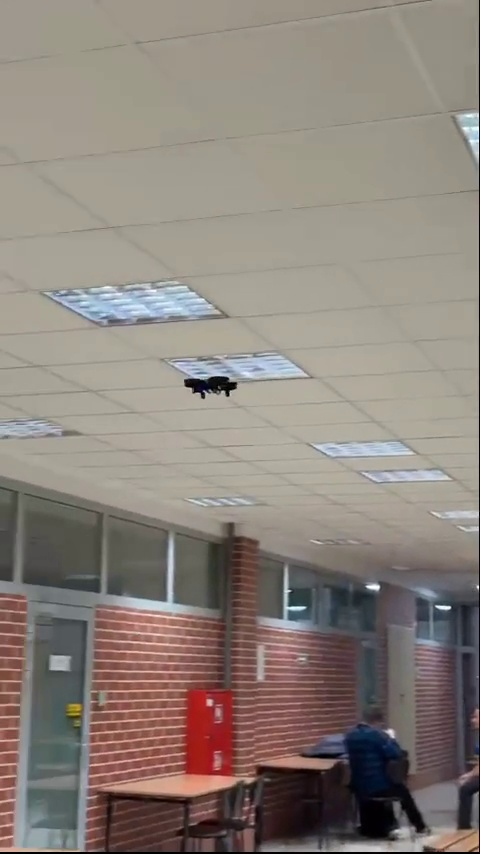drone: (185, 372, 232, 397)
no vest: (339, 704, 419, 807)
